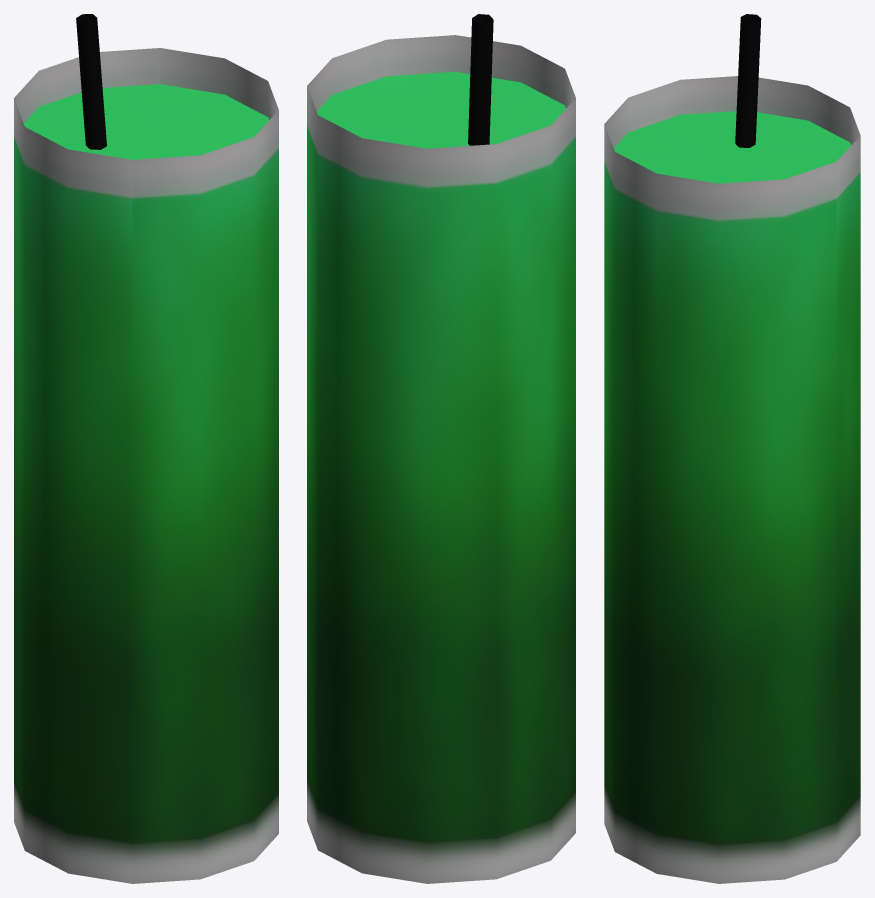
Rendered from Drink5.fbx.
3 renders of one model, left to right at view 1: azimuth 30°, elevation 25°; view 2: azimuth 150°, elevation 25°; view 3: azimuth 270°, elevation 25°, orthographic. The views are drawn at different scales.
Parts seen in each view (by area): view 1: Empty_Mesh; view 2: Empty_Mesh; view 3: Empty_Mesh.
Part boxes in pixels (x1,y1,x2,y2): Empty_Mesh: (14, 14, 278, 883); Empty_Mesh: (307, 14, 575, 883); Empty_Mesh: (604, 14, 860, 883).
Size of the model in its own units: 4.97 by 16.9 by 4.97.
